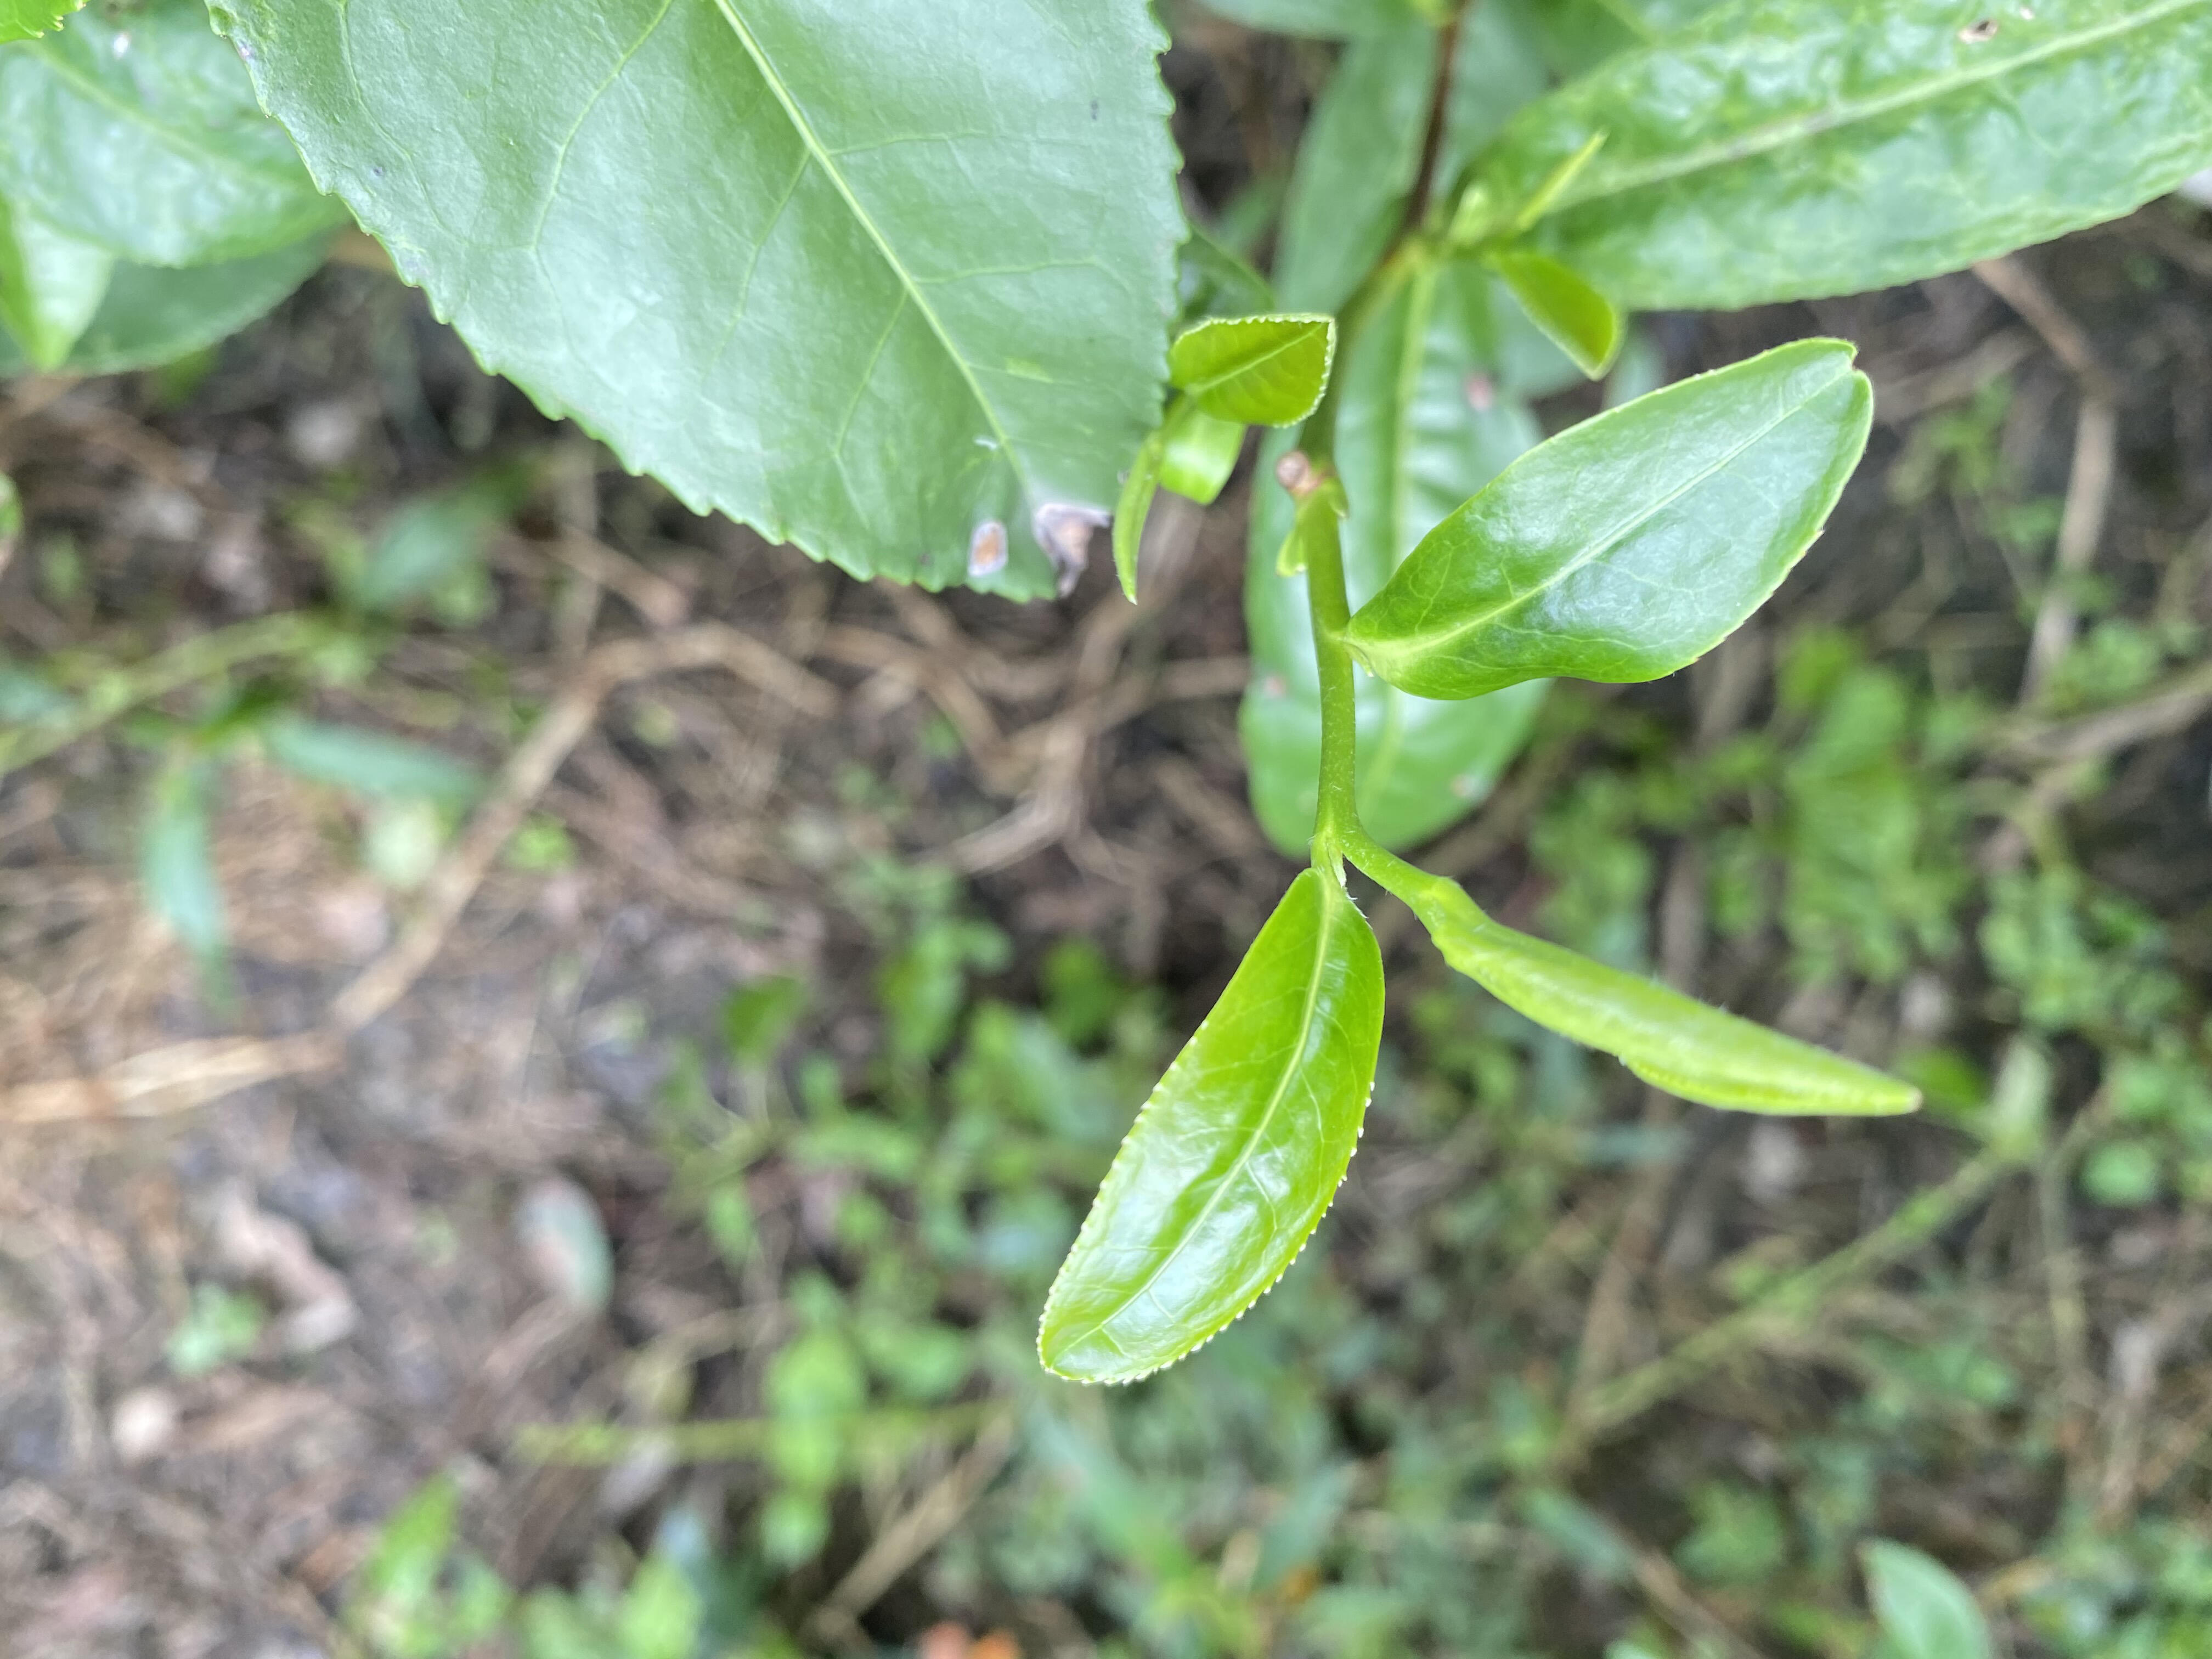healthy: (1350, 336, 1874, 706), (1033, 870, 1386, 1387), (1169, 312, 1338, 430)
tanju_high: (204, 3, 1191, 606)
